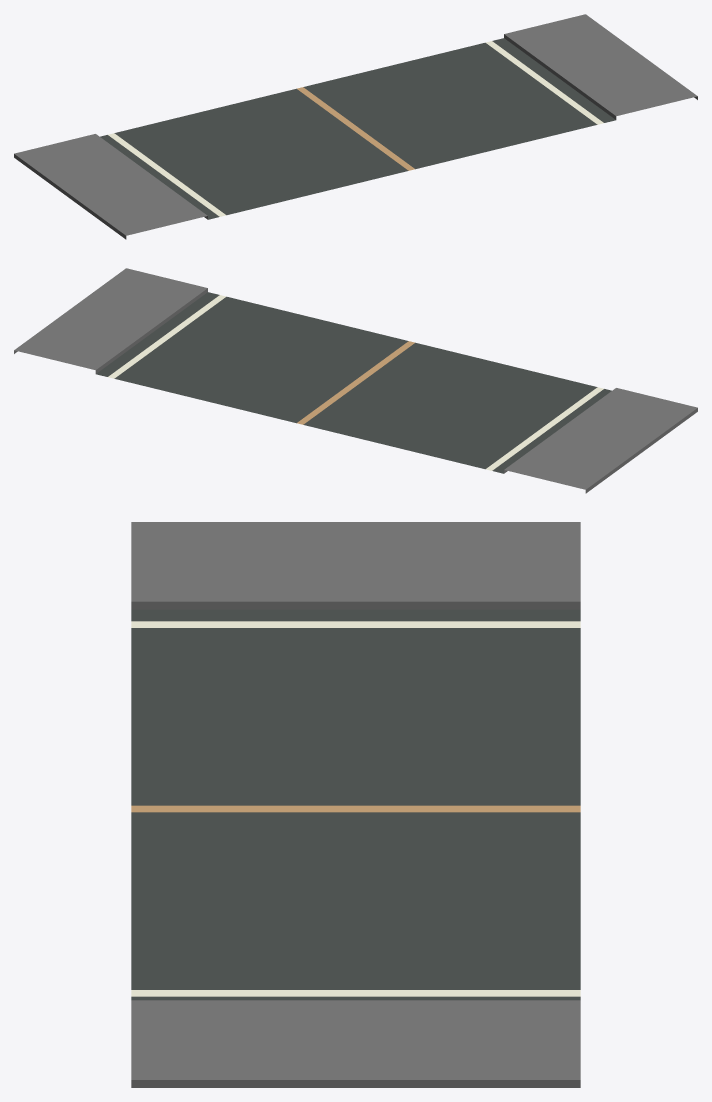
File: Road_2.fbx
3 views of the same model, one above another, from view 1: azimuth 30°, elevation 25°; view 2: azimuth 150°, elevation 25°; view 3: azimuth 270°, elevation 25° (orthographic). The views are drawn at different scales.
Parts seen in each view (by area): view 1: Road_2; view 2: Road_2; view 3: Road_2.
Part boxes in pixels (x1,y1,x2,y2): Road_2: [14, 14, 697, 239]; Road_2: [14, 268, 697, 493]; Road_2: [131, 522, 580, 1087].
Bounding box in the file's own units: 29.4 × 0.1948 × 10.
1 material, 1 textured.
